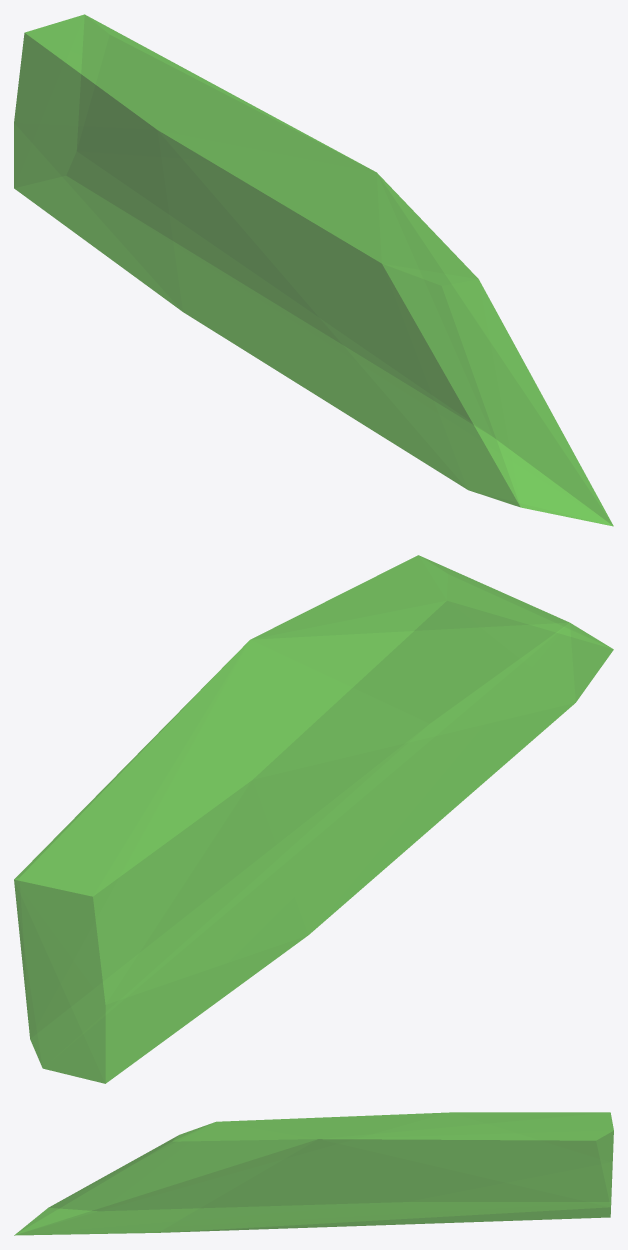
The picture shows the model from 3 angles, top to bottom: view 1: azimuth 30°, elevation 25°; view 2: azimuth 150°, elevation 25°; view 3: azimuth 270°, elevation 25°; orthographic projection. The views are drawn at different scales.
Parts seen in each view (by area): view 1: Shape_IndexedFaceSet.063_Shape_IndexedFaceSet.3640; view 2: Shape_IndexedFaceSet.063_Shape_IndexedFaceSet.3640; view 3: Shape_IndexedFaceSet.063_Shape_IndexedFaceSet.3640.
Part boxes in pixels (x1=…): Shape_IndexedFaceSet.063_Shape_IndexedFaceSet.3640: x1=14, y1=14, x2=613, y2=526; Shape_IndexedFaceSet.063_Shape_IndexedFaceSet.3640: x1=14, y1=555, x2=613, y2=1083; Shape_IndexedFaceSet.063_Shape_IndexedFaceSet.3640: x1=14, y1=1112, x2=613, y2=1235.
Size of the model in its own units: 0.0886 by 0.1162 by 0.6278.
